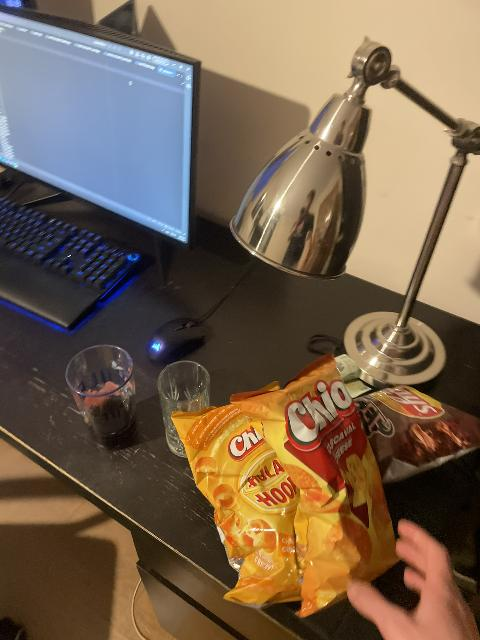Chio Cascaval 125g: (228, 352, 400, 615)
Chio Hula Hoops Cheese 70g: (169, 387, 308, 606)
Lays Beef Grilled Ribs 125g: (352, 380, 478, 485)
